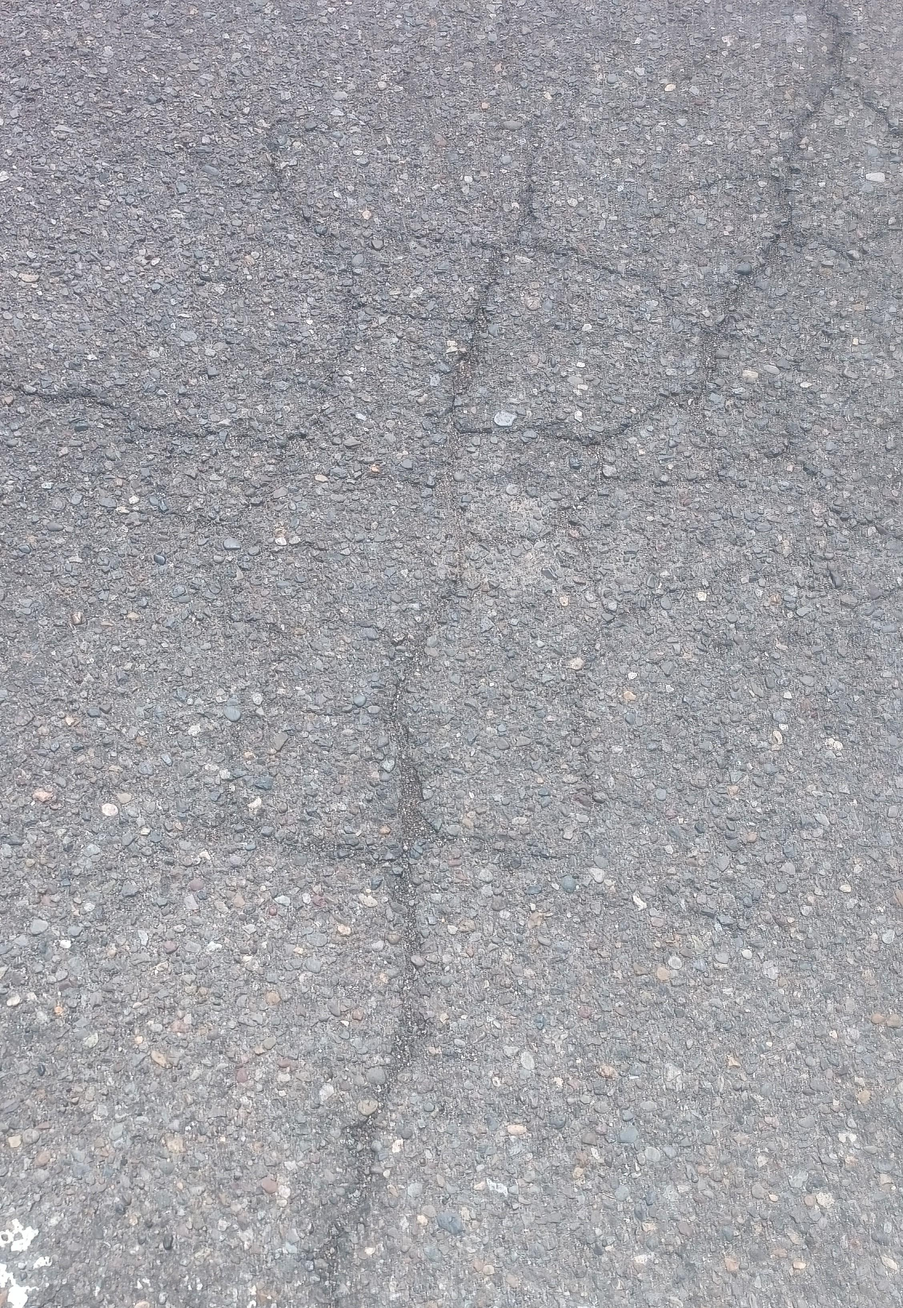GRIETA: (313, 901, 440, 1302), (728, 4, 851, 305), (0, 381, 257, 454)
PIEL DE COCODRILO: (181, 181, 903, 897)
